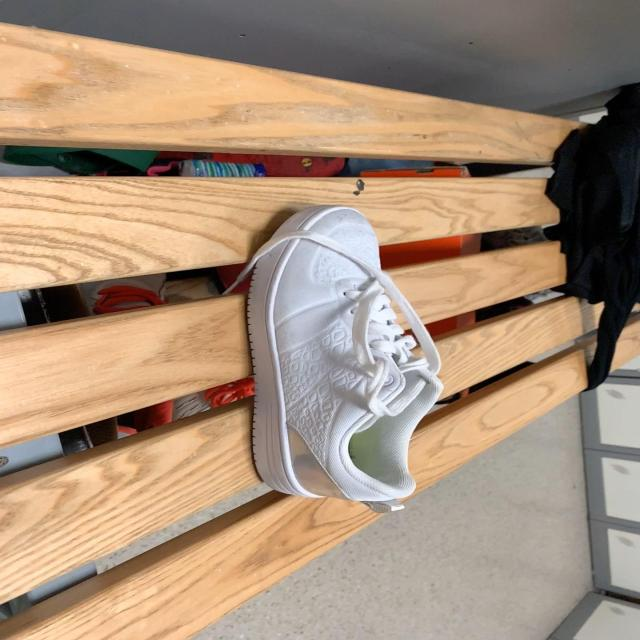shoe: (246, 207, 444, 512)
